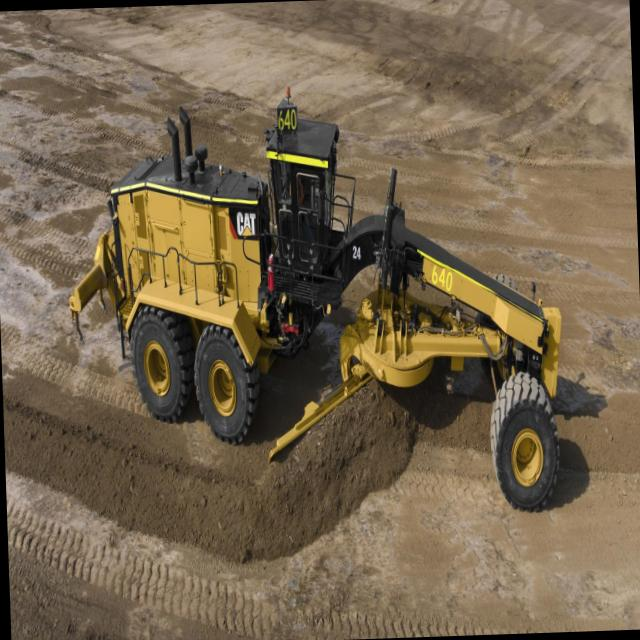Grader: (54, 62, 600, 544)
